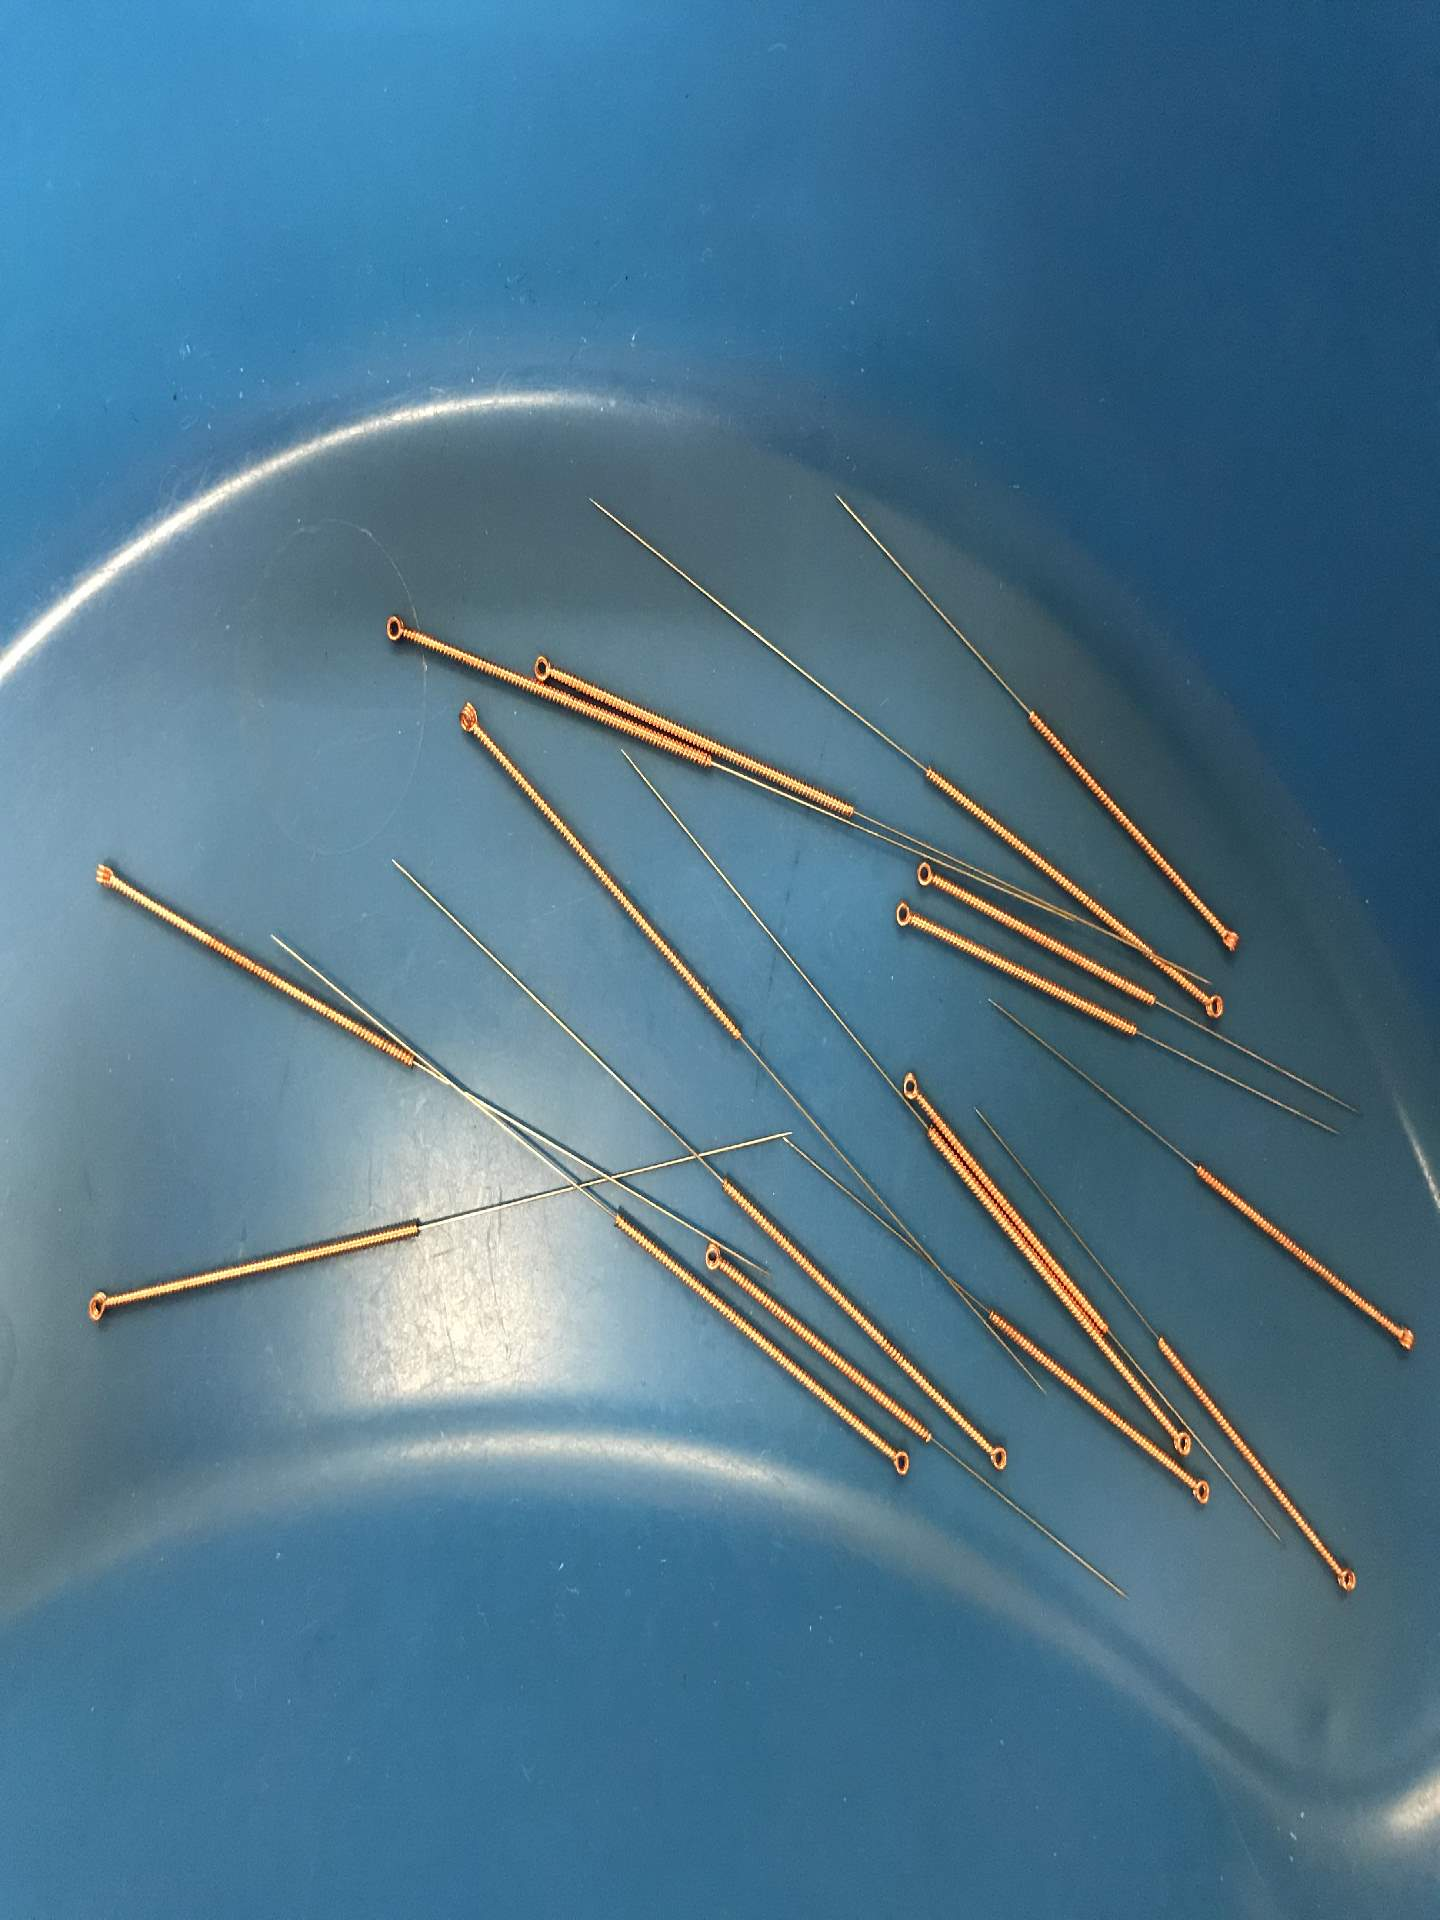needle: (968, 1429, 1023, 1483), (1206, 910, 1255, 968), (372, 605, 424, 659), (443, 694, 495, 748), (79, 853, 135, 903), (1322, 1551, 1369, 1606), (1379, 1312, 1426, 1362), (76, 1281, 119, 1332), (1178, 1468, 1224, 1516), (1190, 983, 1234, 1030), (885, 890, 926, 940), (874, 1441, 920, 1483), (892, 1063, 930, 1113), (908, 850, 947, 897), (694, 1237, 731, 1281), (529, 646, 566, 686), (1168, 1420, 1203, 1460)
